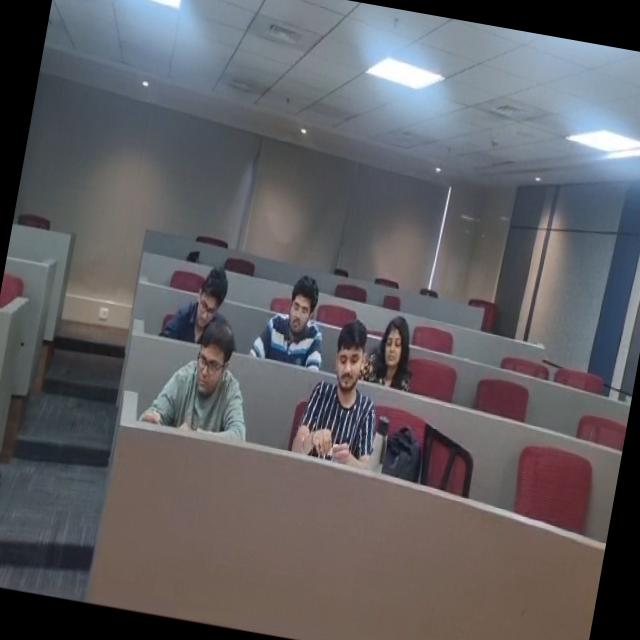cheating: (136, 316, 263, 448), (298, 318, 390, 471)
non-cheating: (255, 256, 339, 371), (164, 256, 238, 344), (364, 307, 434, 395)
